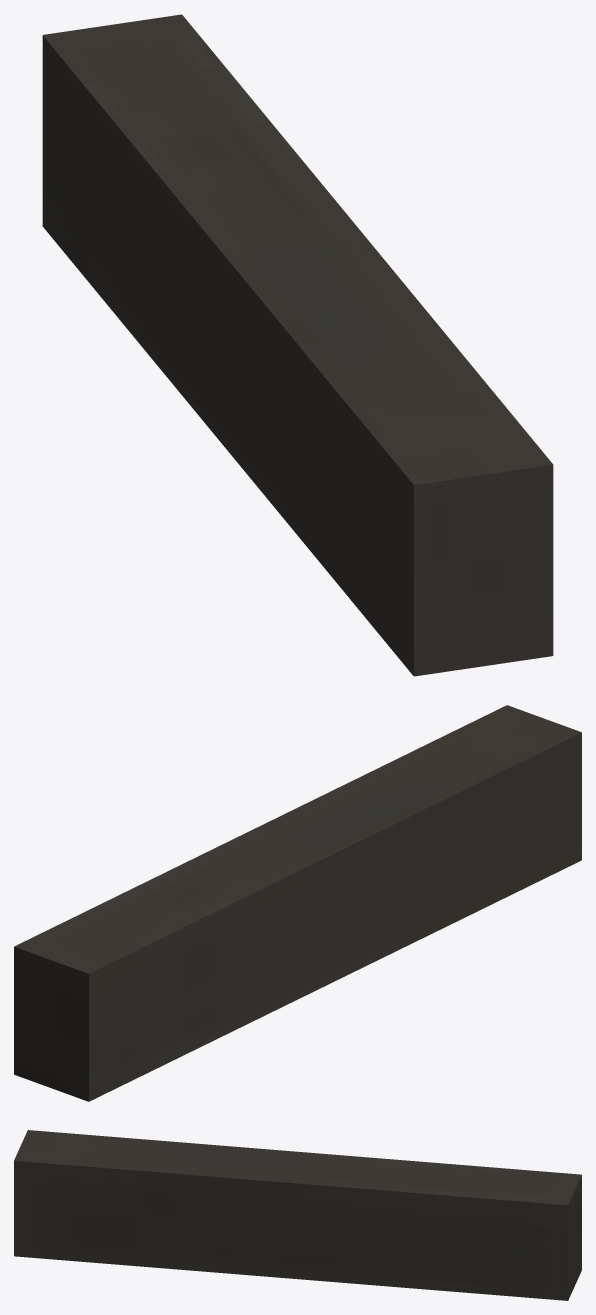
The model's file is support_arm__beam_1.glb.
3 views of the same model, one above another, from view 1: azimuth 30°, elevation 25°; view 2: azimuth 150°, elevation 25°; view 3: azimuth 270°, elevation 25° (orthographic). The views are drawn at different scales.
Visible parts, largest first — view 1: world; view 2: world; view 3: world.
Boxes of the visible parts, x1,y1,x2,y2 form: world: (42, 14, 553, 676); world: (14, 705, 581, 1101); world: (14, 1130, 581, 1300).
Bounding box in the file's own units: 0.0675 × 0.04 × 0.2152.
Materials: 1 (1 with a texture image).
